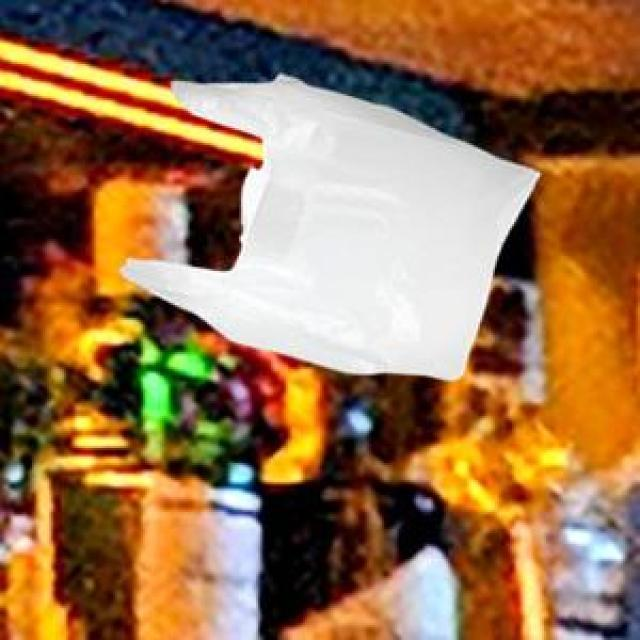Plastic_Bag: (116, 71, 537, 376)
